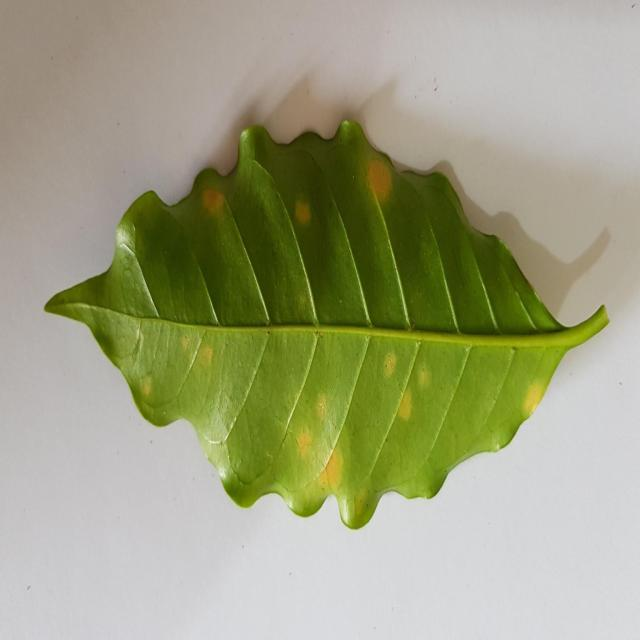rust: (361, 146, 396, 222), (199, 175, 235, 217), (312, 394, 329, 439), (293, 191, 312, 227), (383, 348, 398, 389)
